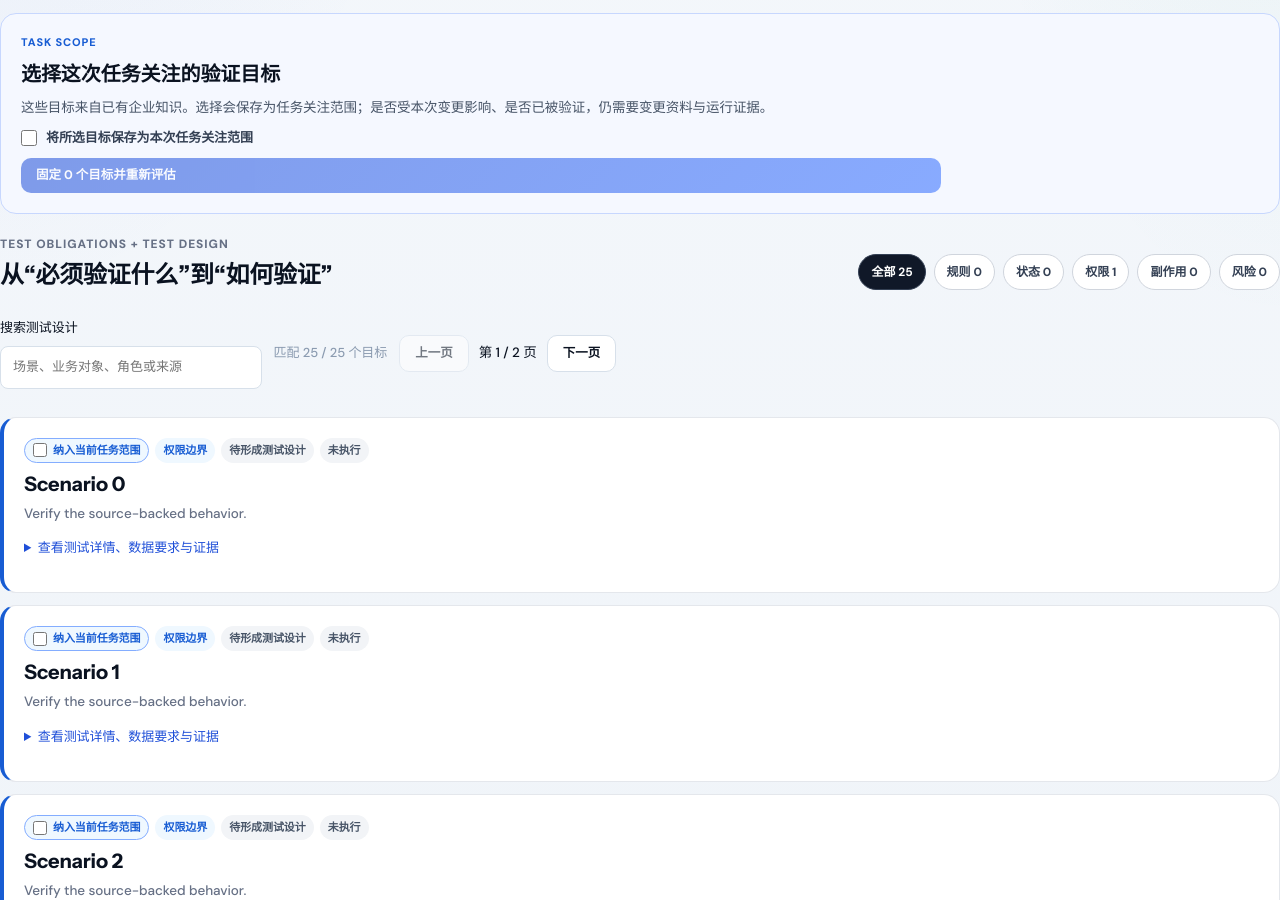
Test: retains selected targets across pagination and search without executing grounding
(page scrolled)
Click the checkbox named "选择 Test Target：Scenario 0" at (40, 450), box [33, 443, 47, 457]
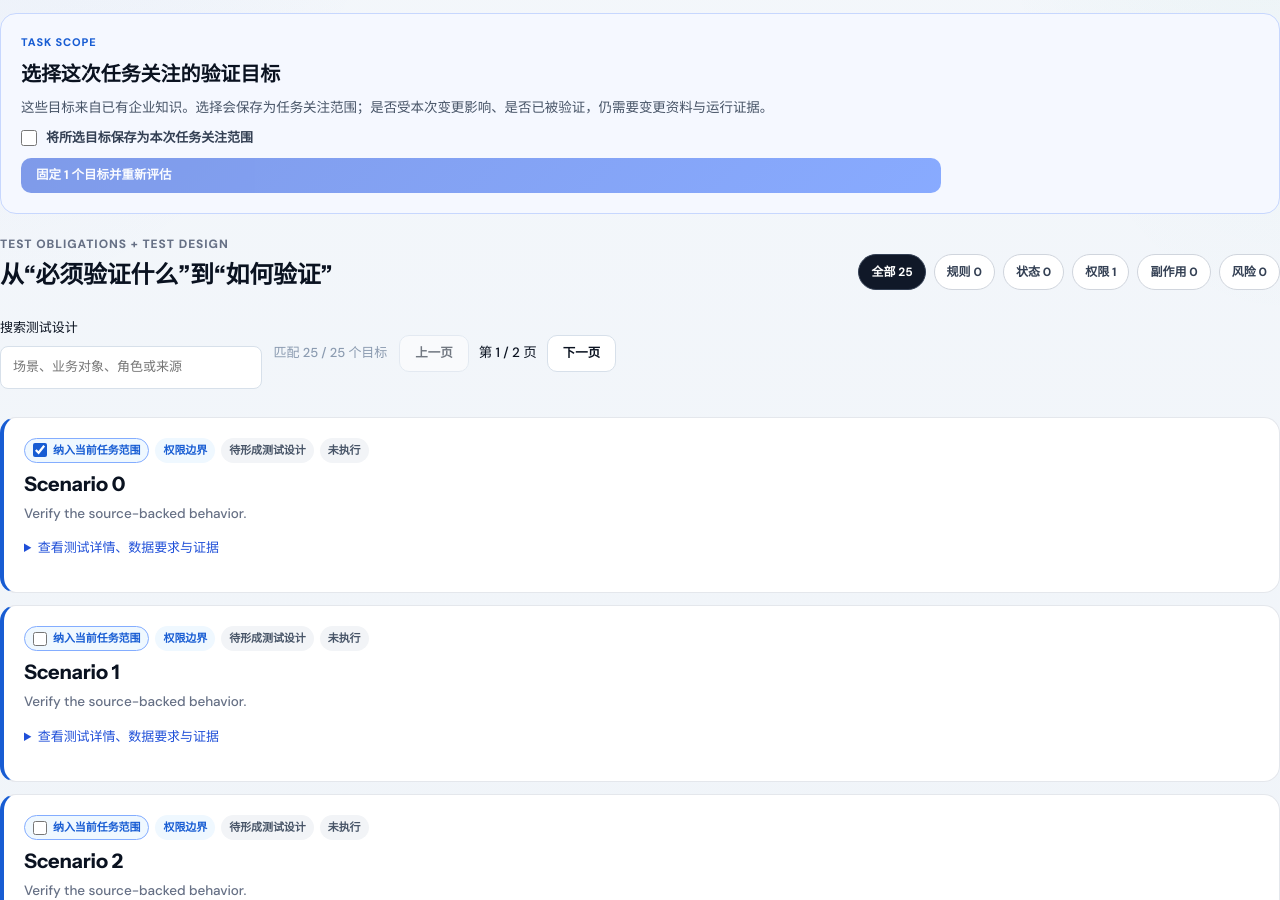
Click the button "下一页" at (581, 354), box [547, 335, 616, 372]
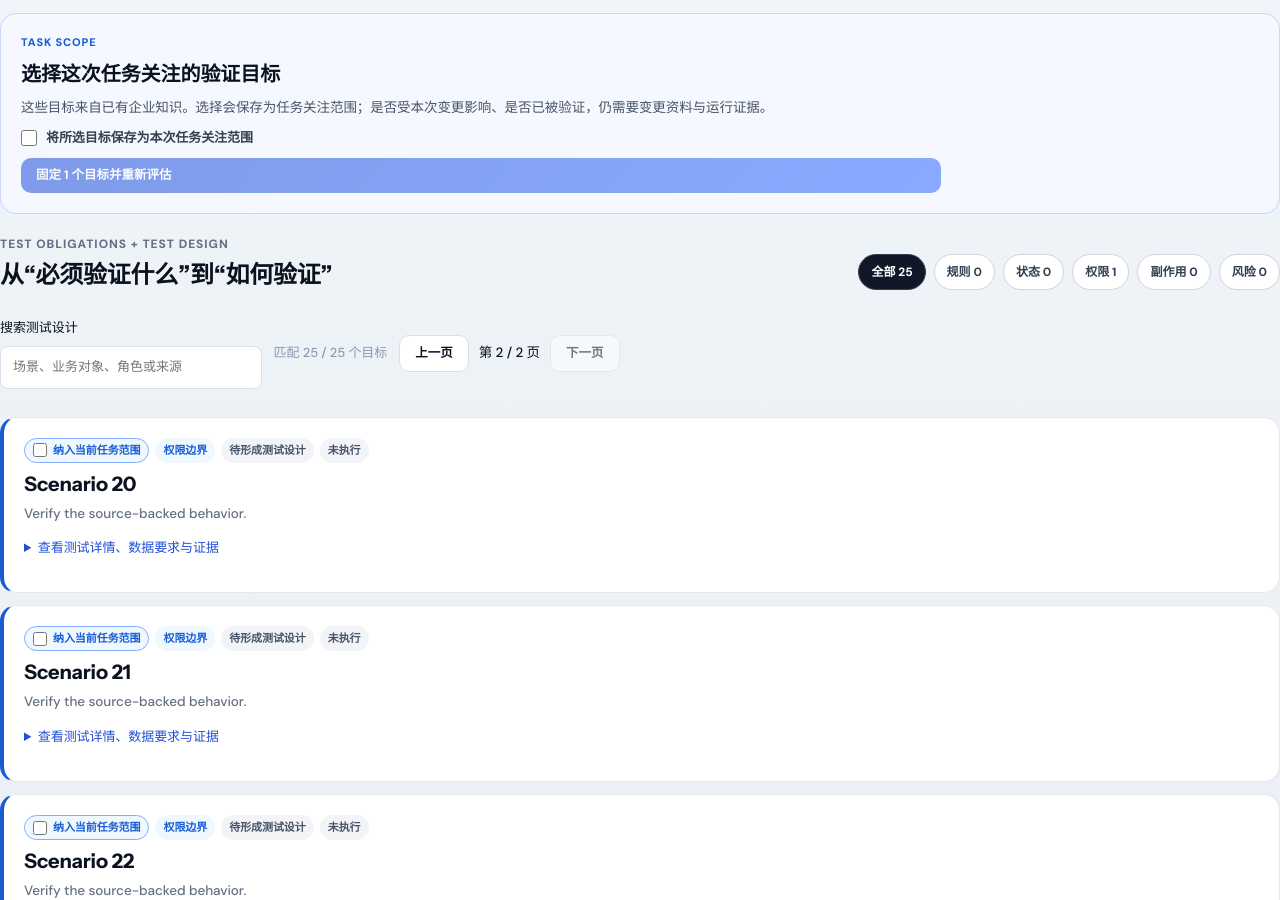
Now the heading "Scenario 0" is gone
Type "Scenario 0" into the search field at (131, 368), box [0, 346, 262, 389]
(page scrolled)
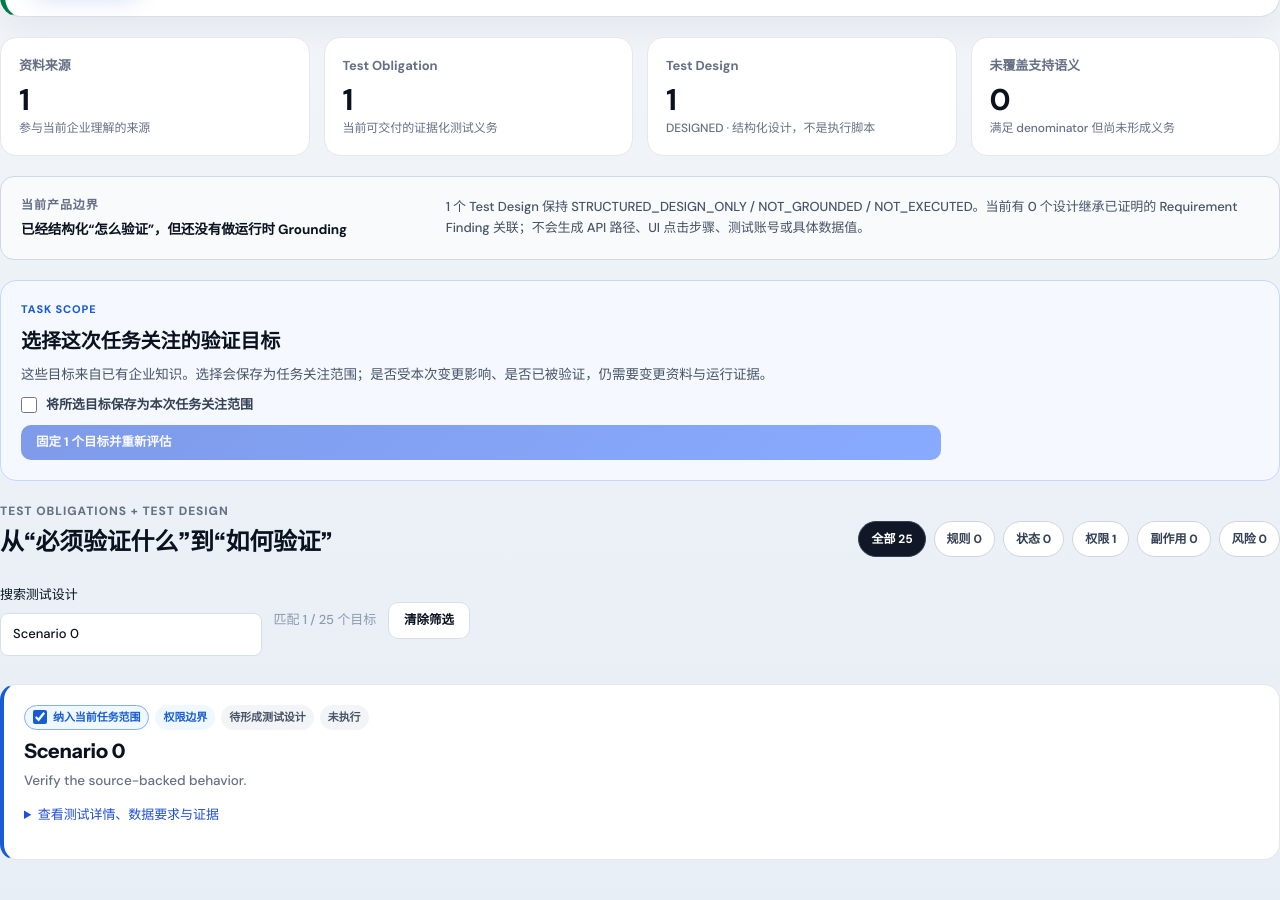
Now the checkbox named "选择 Test Target：Scenario 0" is checked, box [33, 710, 47, 724]
